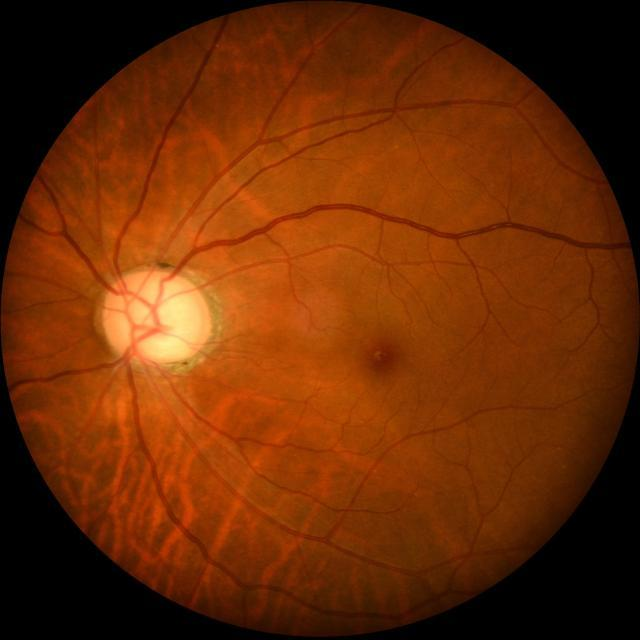OC: (125, 286, 193, 354)
OD: (99, 268, 210, 368)
